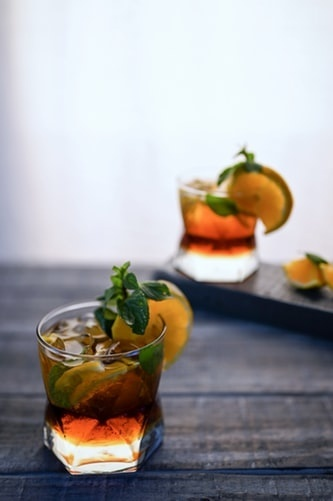whiskey: (35, 294, 167, 471)
